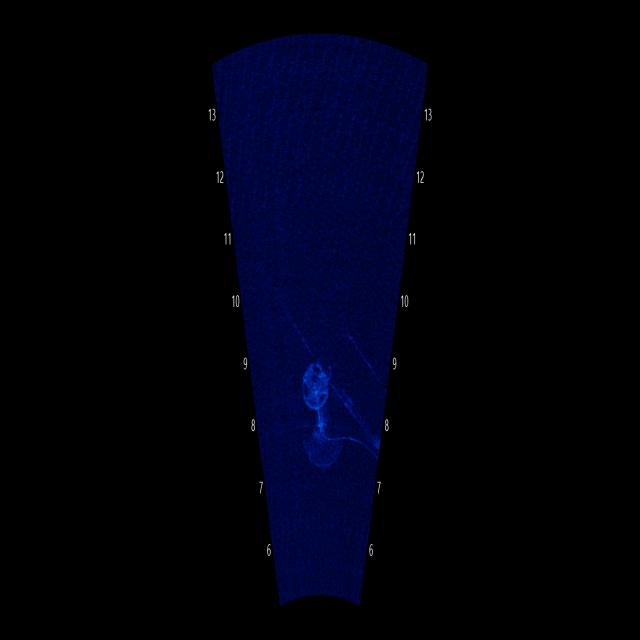circle: (287, 333, 344, 421)
